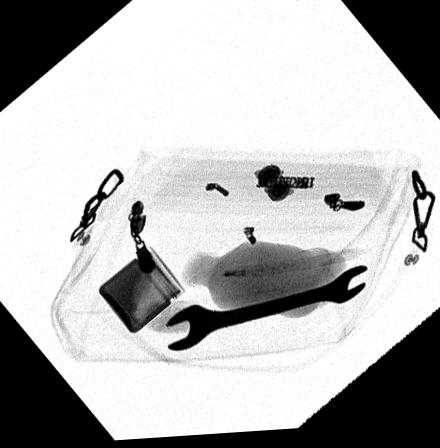Wrench: (163, 268, 368, 352)
